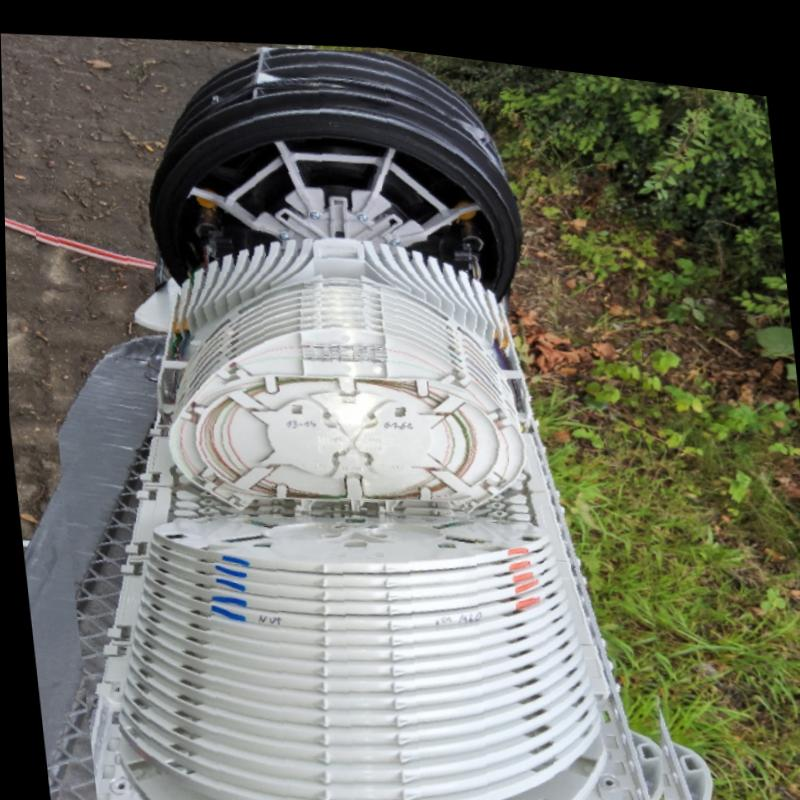NT-Muffen: (86, 41, 672, 800)
